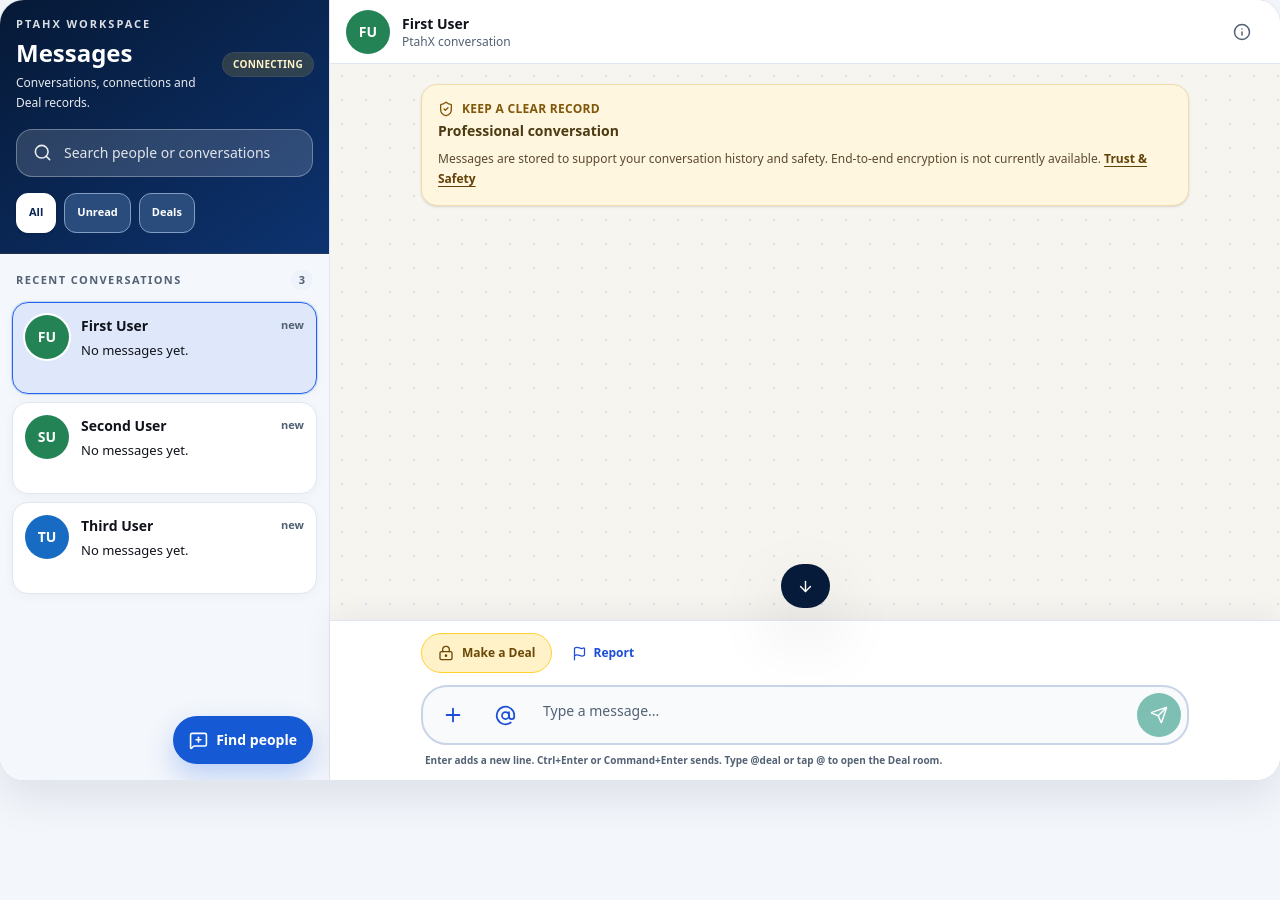
Test: message workspace exact targets › keeps the latest rapid conversation selection when responses arrive out of order
The image size is (1280, 900).
Click the button "SU Second User new No messages yet.": (164, 448) [12, 402, 317, 494]
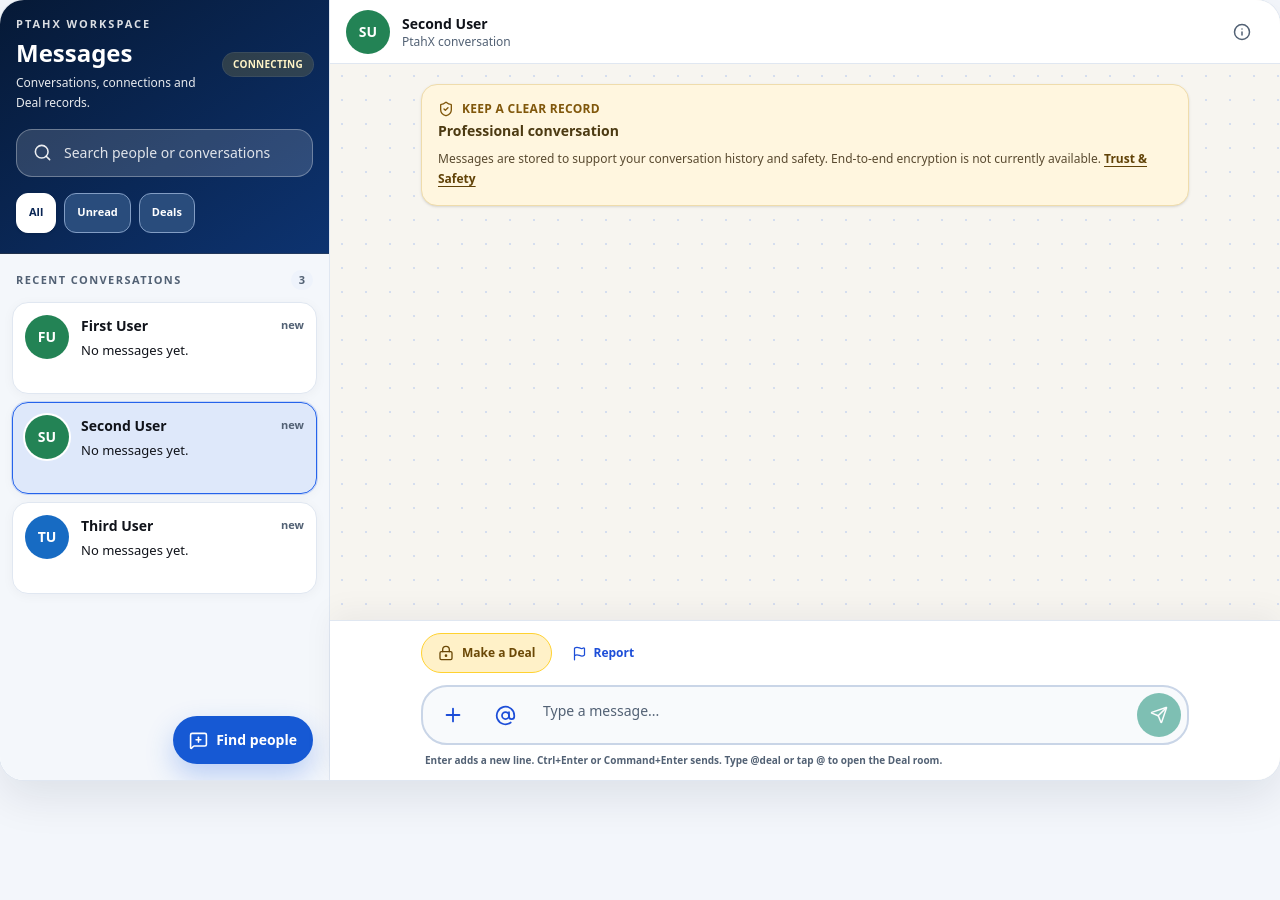
Click the button "TU Third User new No messages yet.": (164, 548) [12, 502, 317, 594]
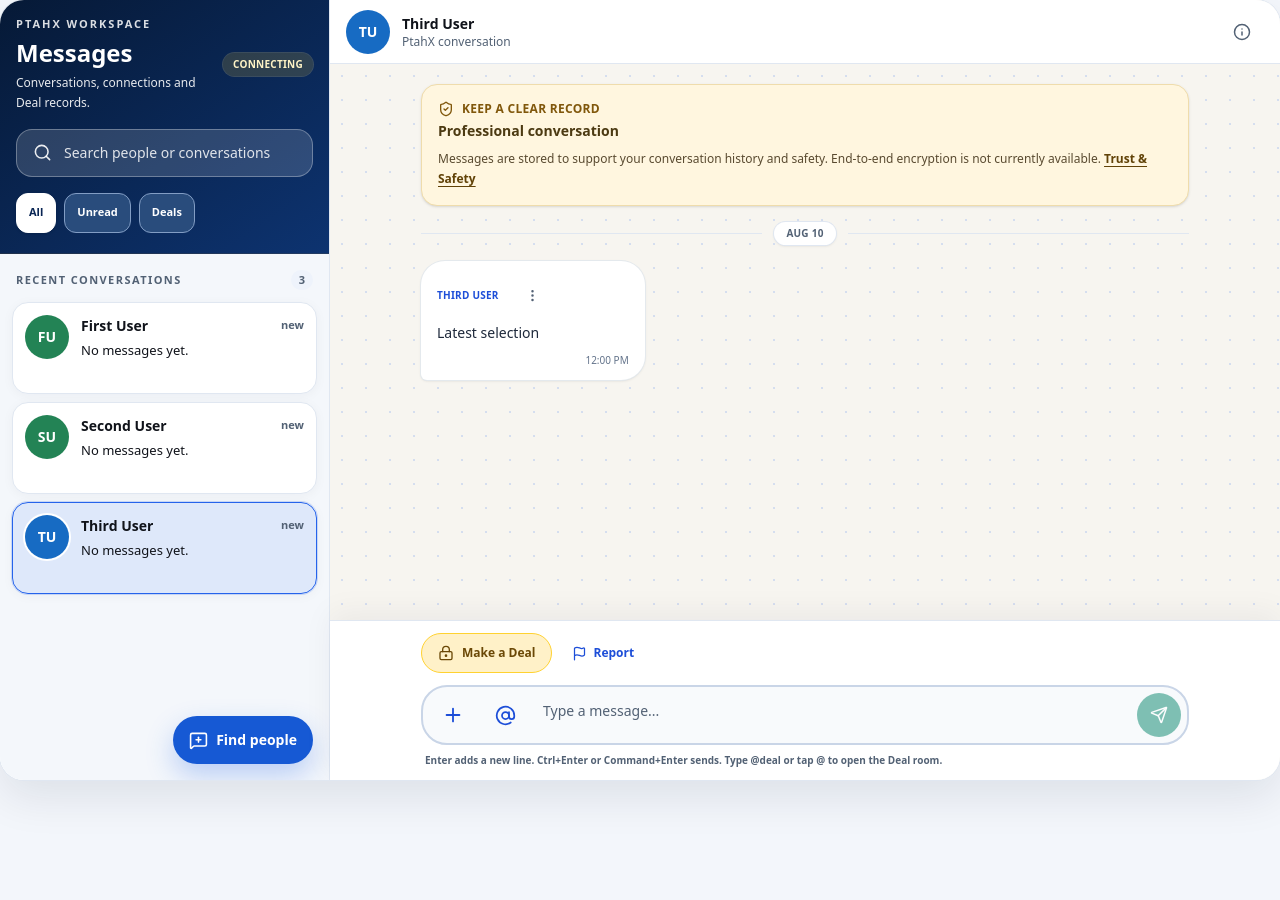
Expected: the text "Latest selection" is shown, [437, 323, 539, 342]
